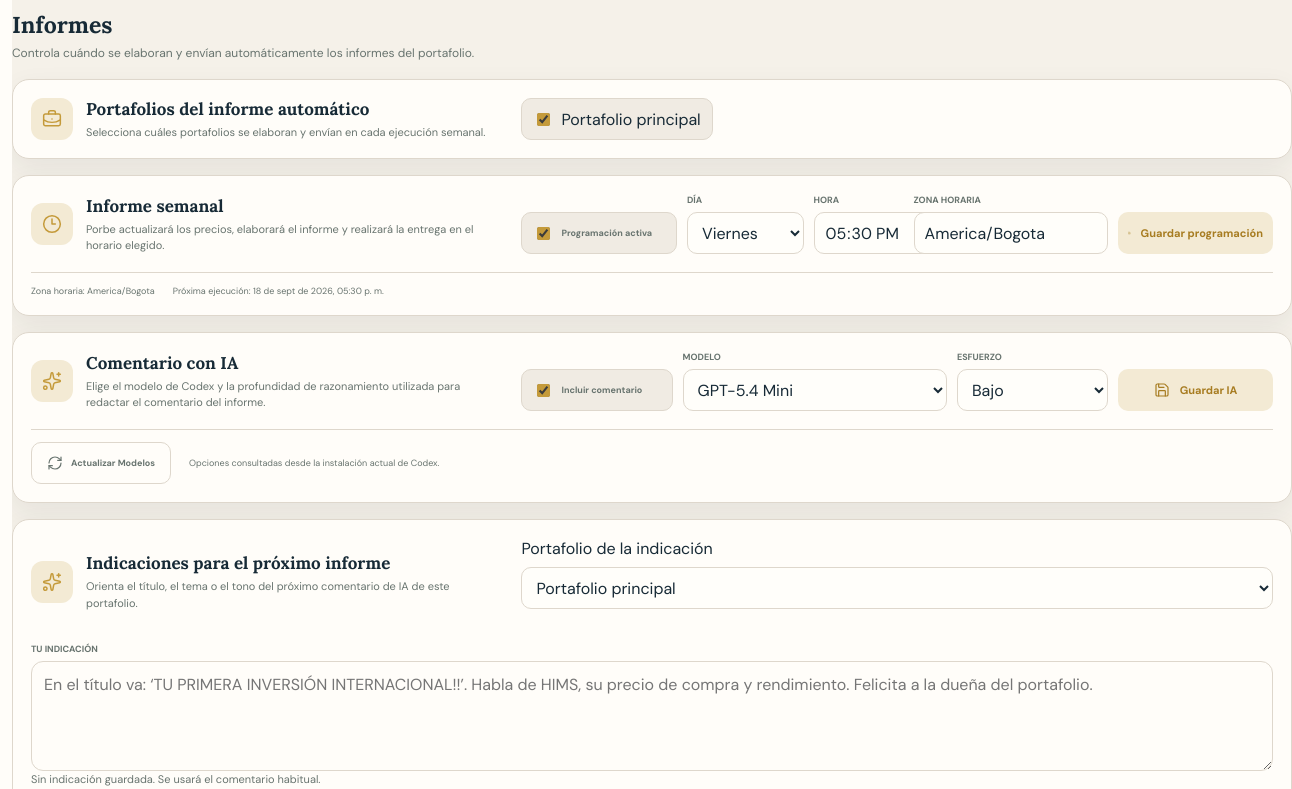
Scenario: SettingsPage › actualiza el modelo y ajusta el esfuerzo a sus opciones disponibles
The image size is (1292, 789).
(page scrolled)
Select "GPT-5.5" in the dropdown labelled "Modelo": x=815, y=390 [682,369,947,411]
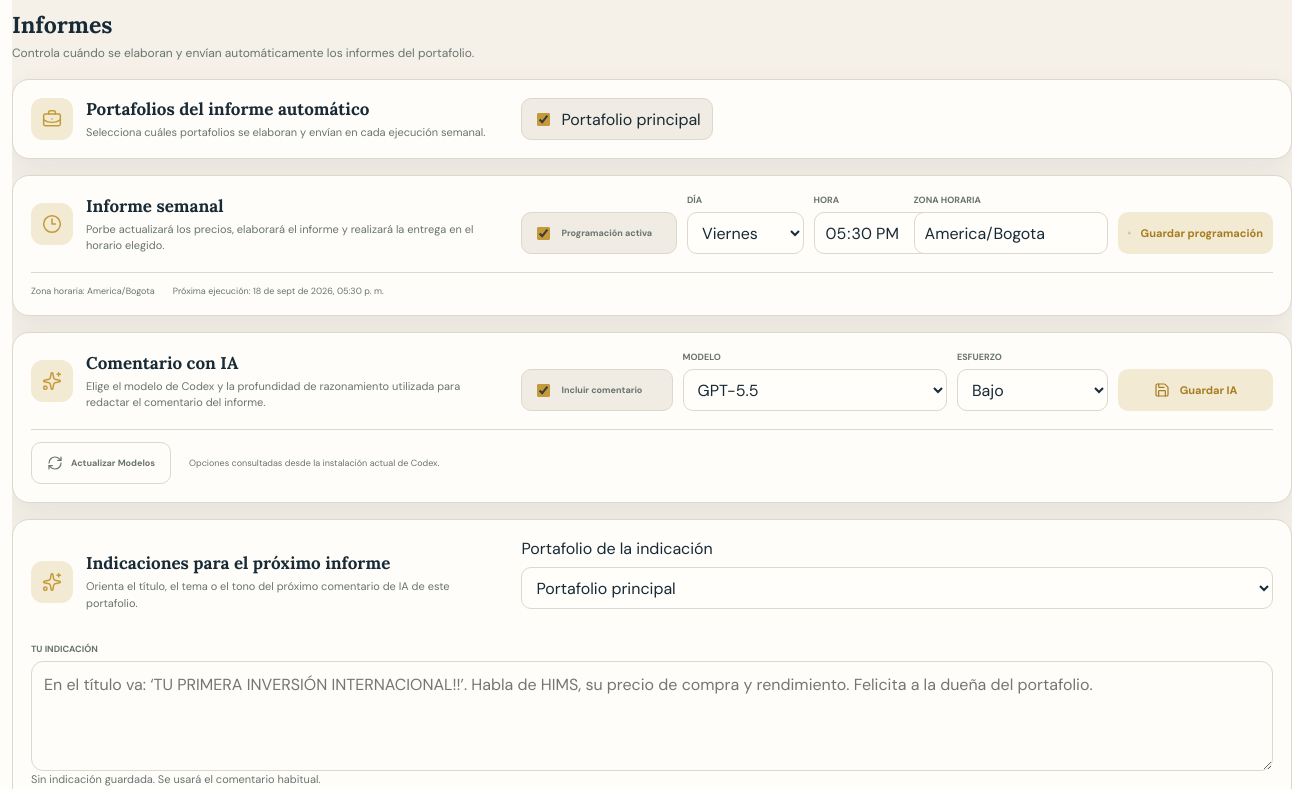
Select "Medio" in the dropdown labelled "Esfuerzo": x=1032, y=390 [957,369,1108,411]
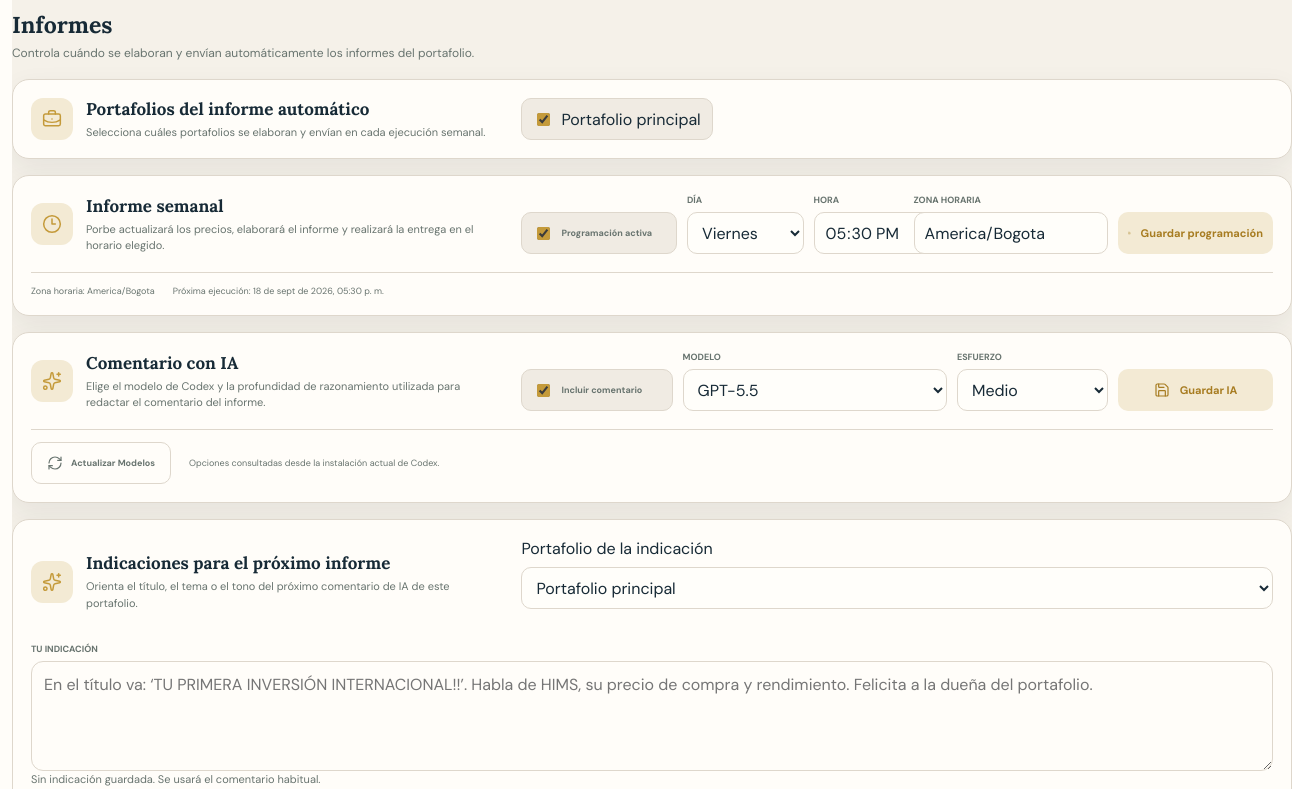
Click the submit button: x=1196, y=390 [1118,369,1273,411]
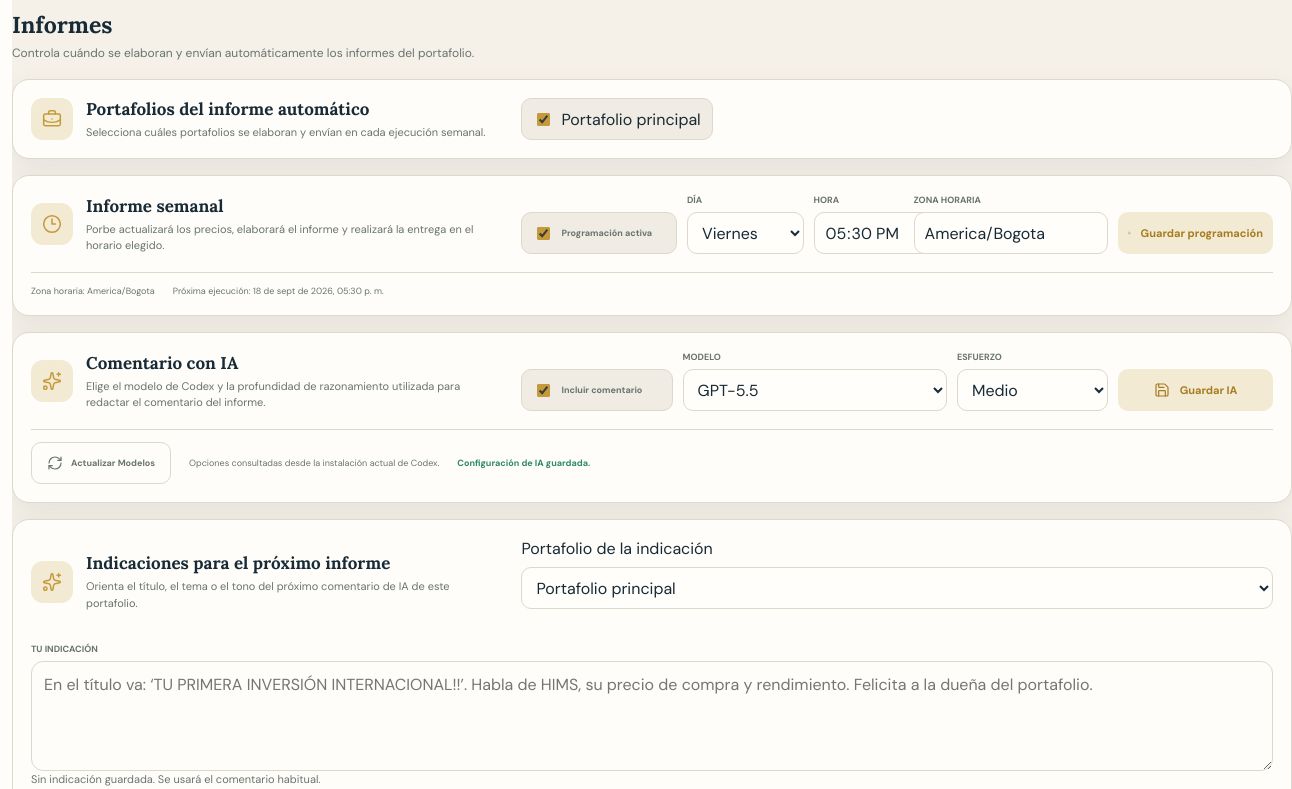
Check: the text "Configuración de IA guardada." is shown, box [457,457,590,469]
